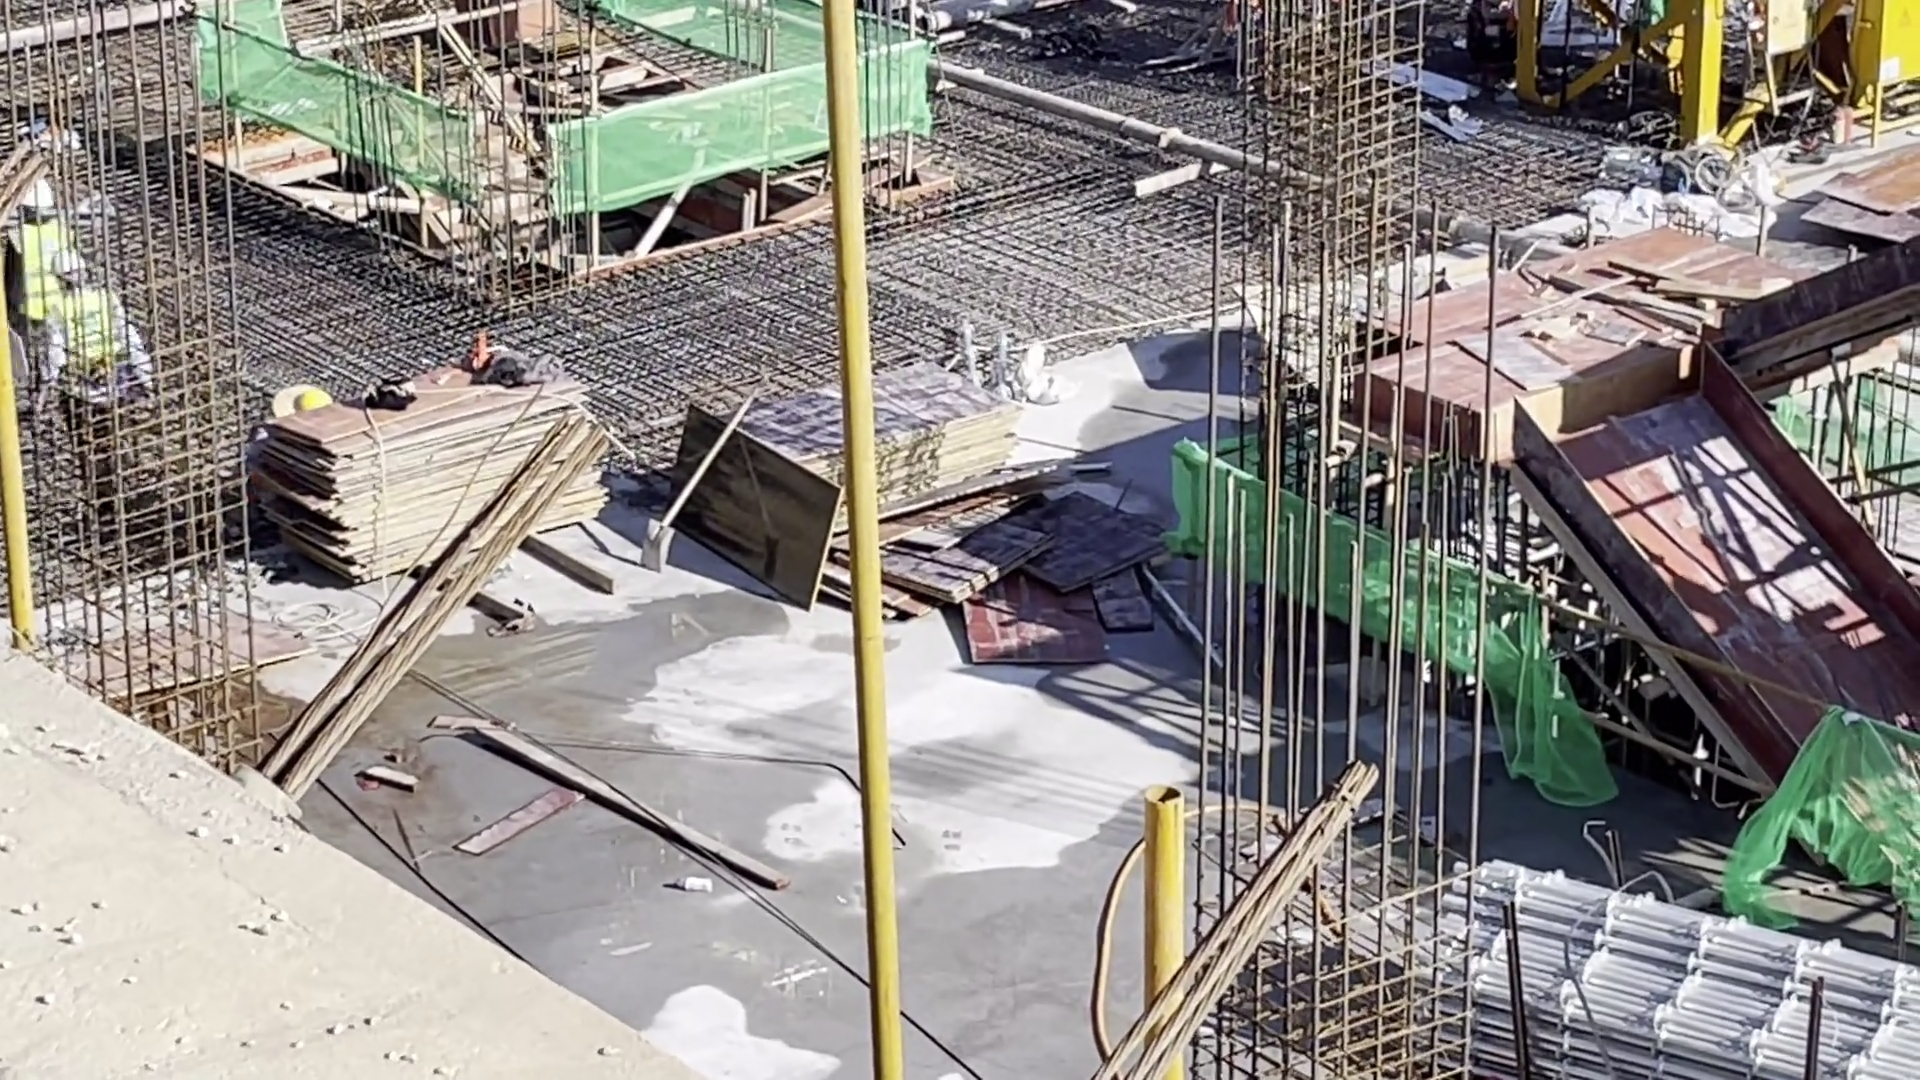board: (309, 371, 583, 591), (703, 369, 966, 567)
ebox: (1819, 1, 1920, 104)
helmet: (279, 381, 358, 417), (56, 256, 113, 289), (19, 174, 64, 211)
person: (56, 253, 151, 496), (13, 173, 59, 390), (258, 376, 336, 488), (1448, 1, 1510, 105)
scaffold: (1453, 847, 1908, 1080)
vest: (59, 286, 114, 391), (19, 224, 59, 326), (1467, 1, 1494, 54), (258, 406, 283, 454)
